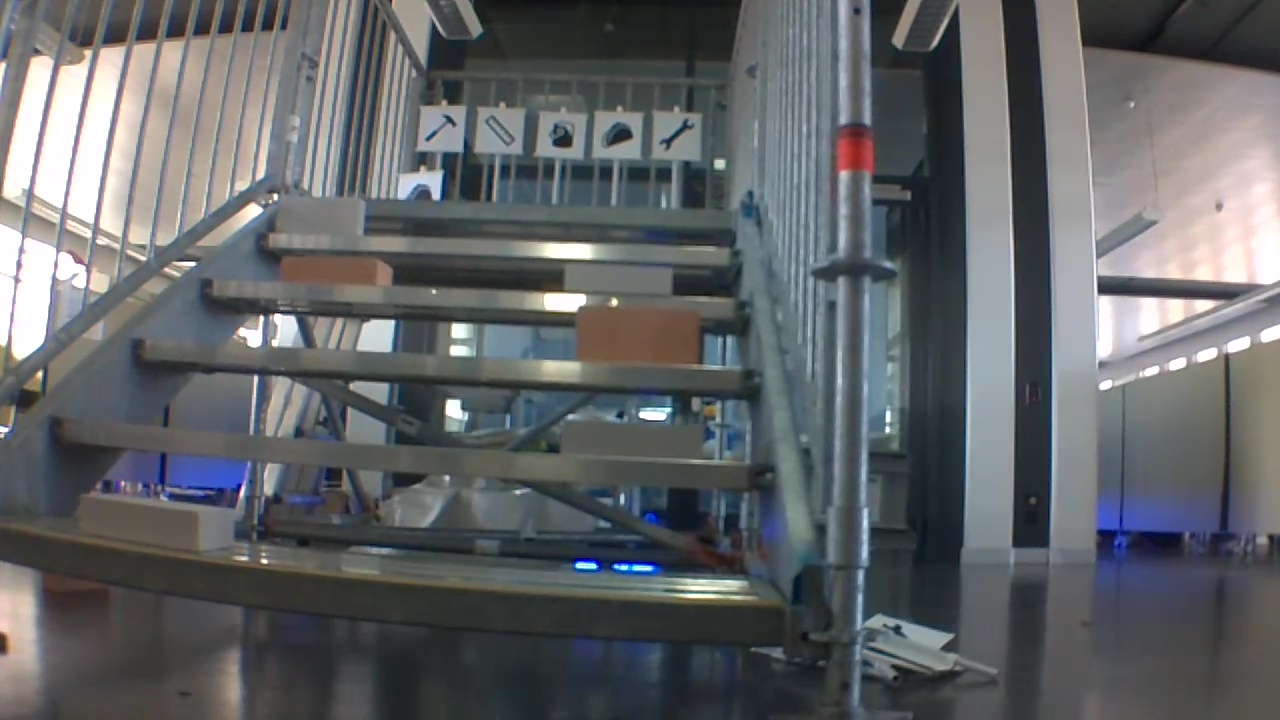brick: (69, 502, 240, 547), (575, 311, 706, 365), (554, 423, 705, 456), (272, 194, 365, 236), (562, 264, 673, 293), (281, 256, 397, 282)
bucket: (546, 119, 577, 149)
edge: (0, 529, 788, 654), (49, 415, 772, 493), (132, 339, 756, 400), (201, 275, 748, 322), (266, 233, 730, 269), (297, 198, 725, 224)
hammer: (424, 112, 461, 144)
ruler: (483, 115, 516, 146)
steps: (0, 196, 815, 670)
taco: (597, 120, 641, 148), (409, 178, 435, 200)
wrench: (660, 119, 695, 152)
